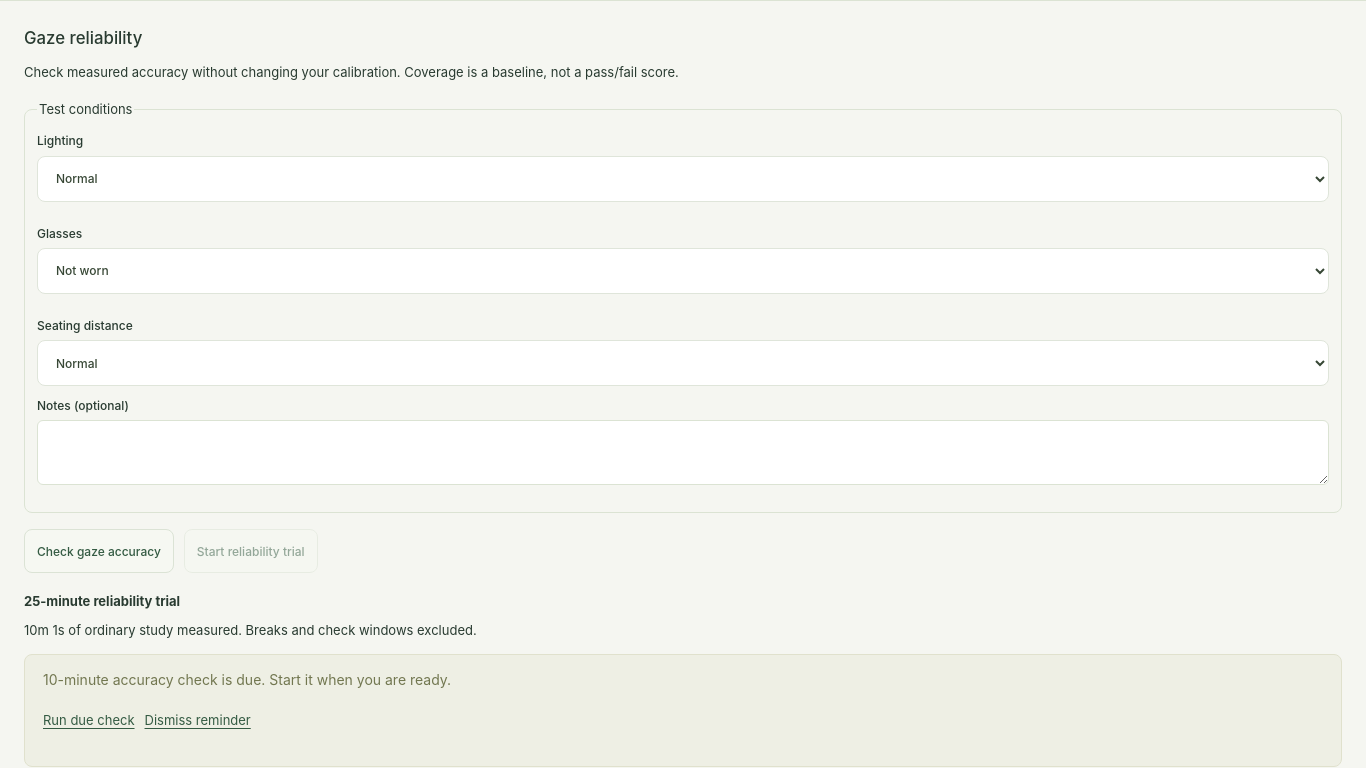
it: Guided reliability diagnostics › requires explicit action for due reminders and dismisses without ending the session
The width and height of the screenshot is (1366, 768).
Click the button "Dismiss reminder". click: (198,721)
box: [144,704,251,738]
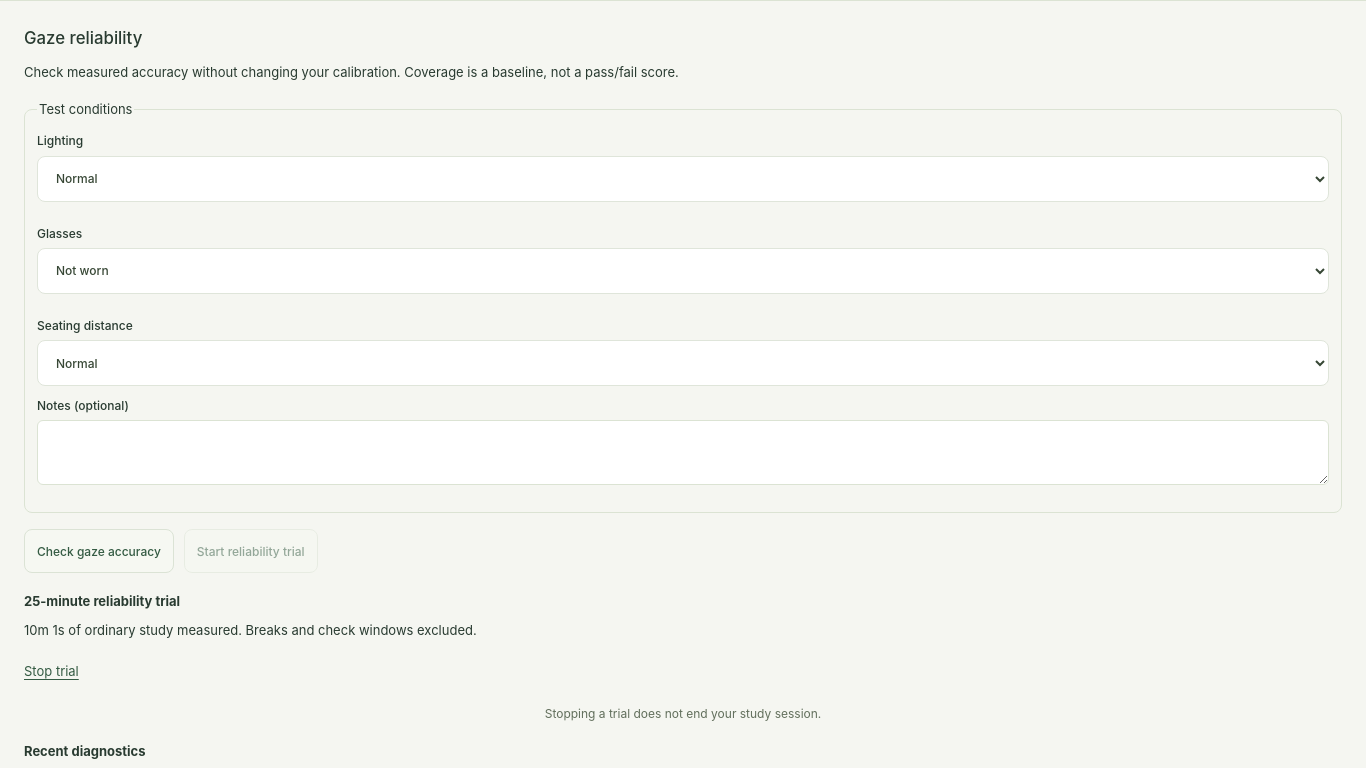
Result: the text "accuracy check is due" is gone
